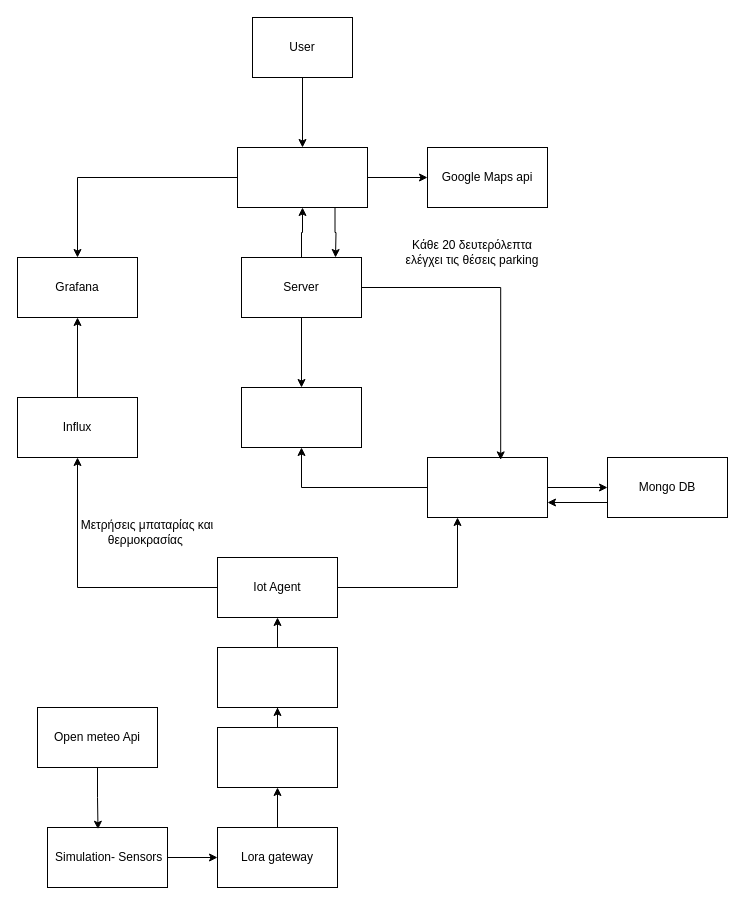
This 745x905 diagram has some shape labels left out. The shapes that lost their labels are listed below. From the top down, each one's centre as x and y in pixels, then its label:
the point at 302,177: Front End
the point at 301,417: MySQL
the point at 487,487: Context Broker
the point at 277,677: MQTT-Server
the point at 277,757: Internet
